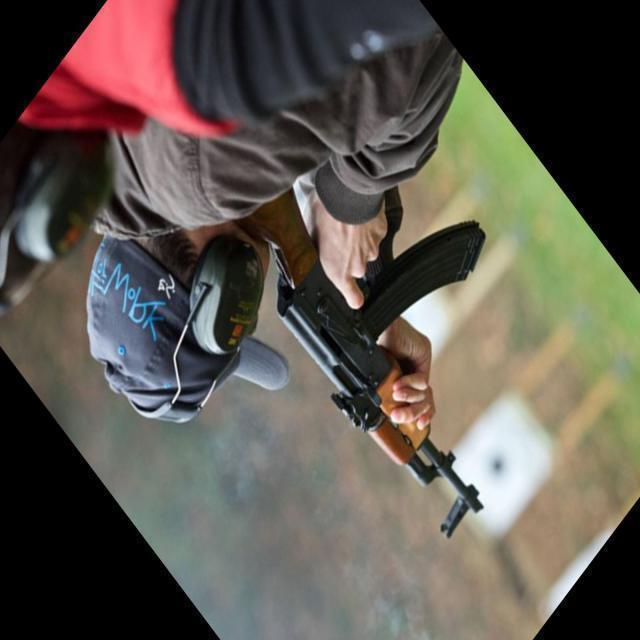Rifle: (241, 180, 487, 540)
